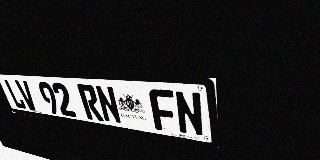2: (50, 82, 77, 117)
9: (36, 81, 62, 115)
F: (148, 89, 178, 133)
L: (3, 79, 27, 110)
N: (174, 90, 204, 137), (94, 85, 122, 124)
R: (76, 84, 104, 122)
V: (14, 80, 39, 111)
